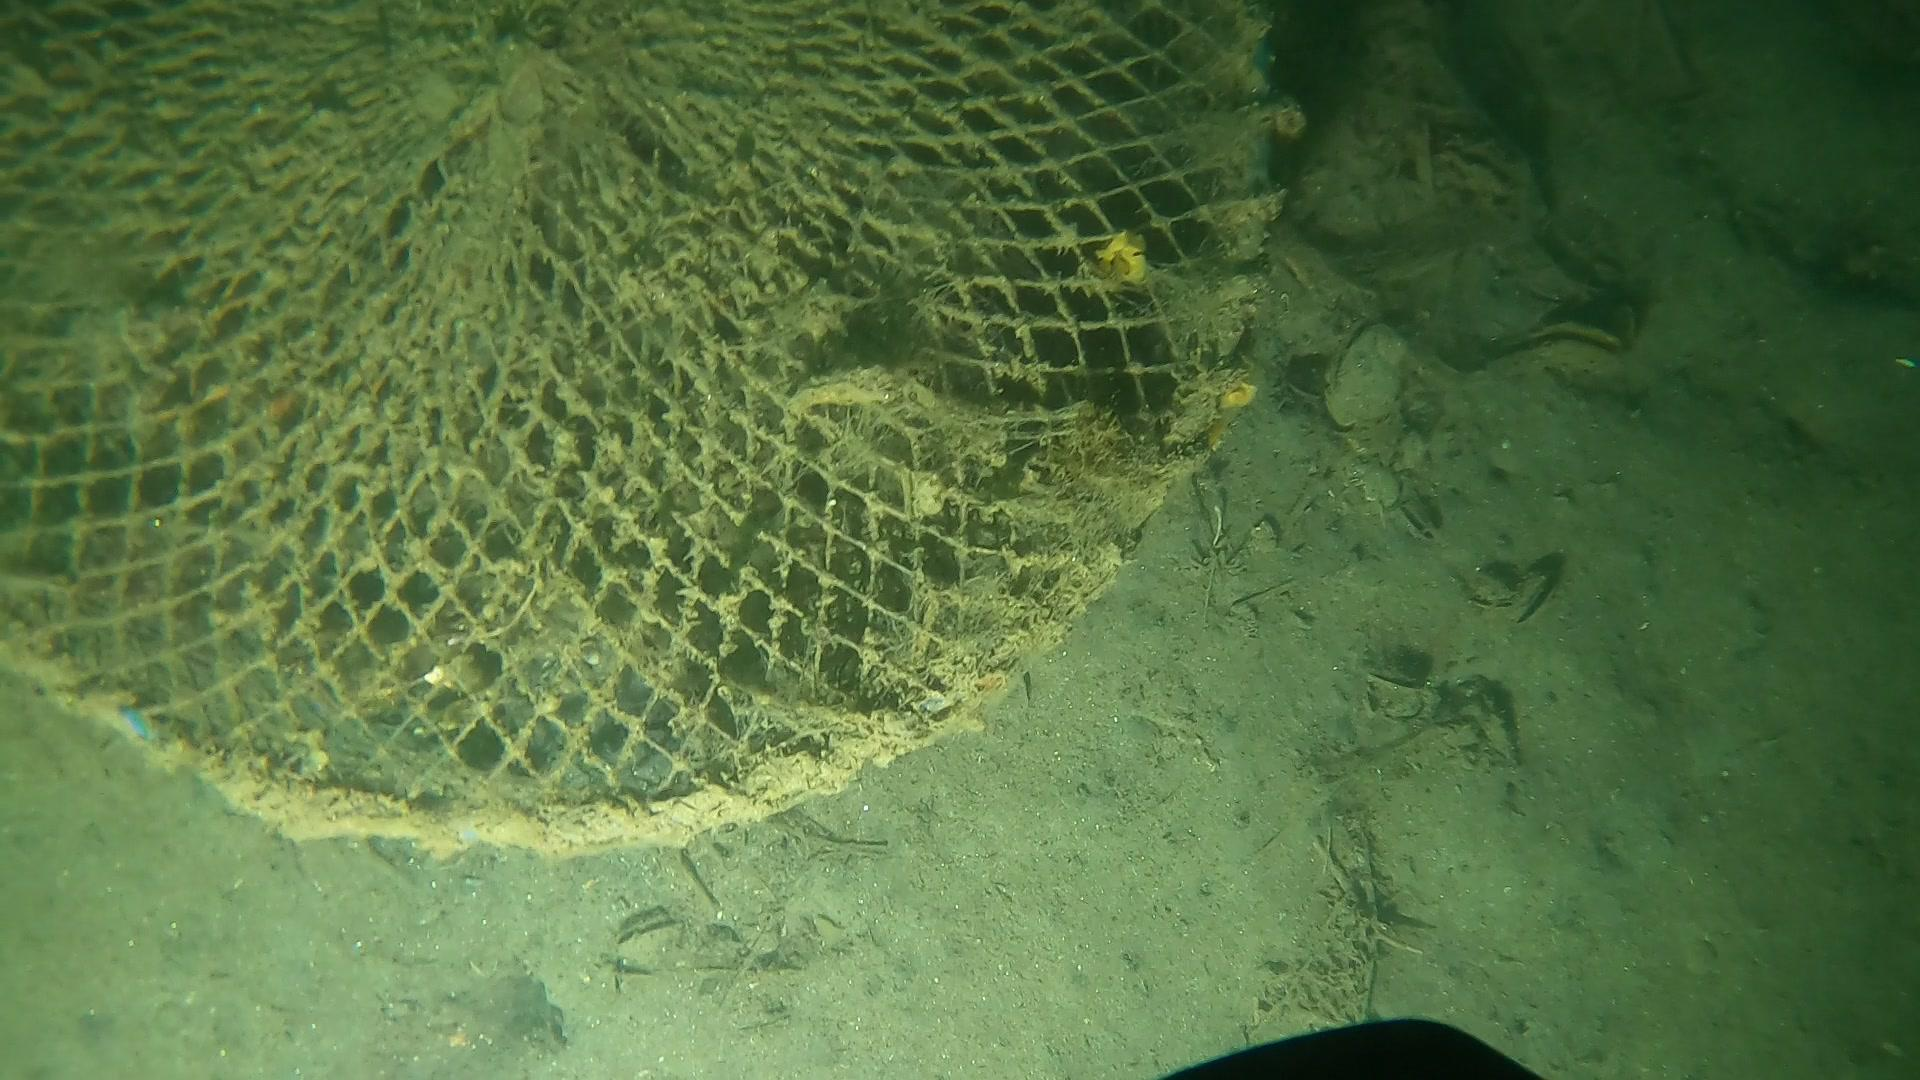circular fish trap: (0, 0, 1276, 848)
